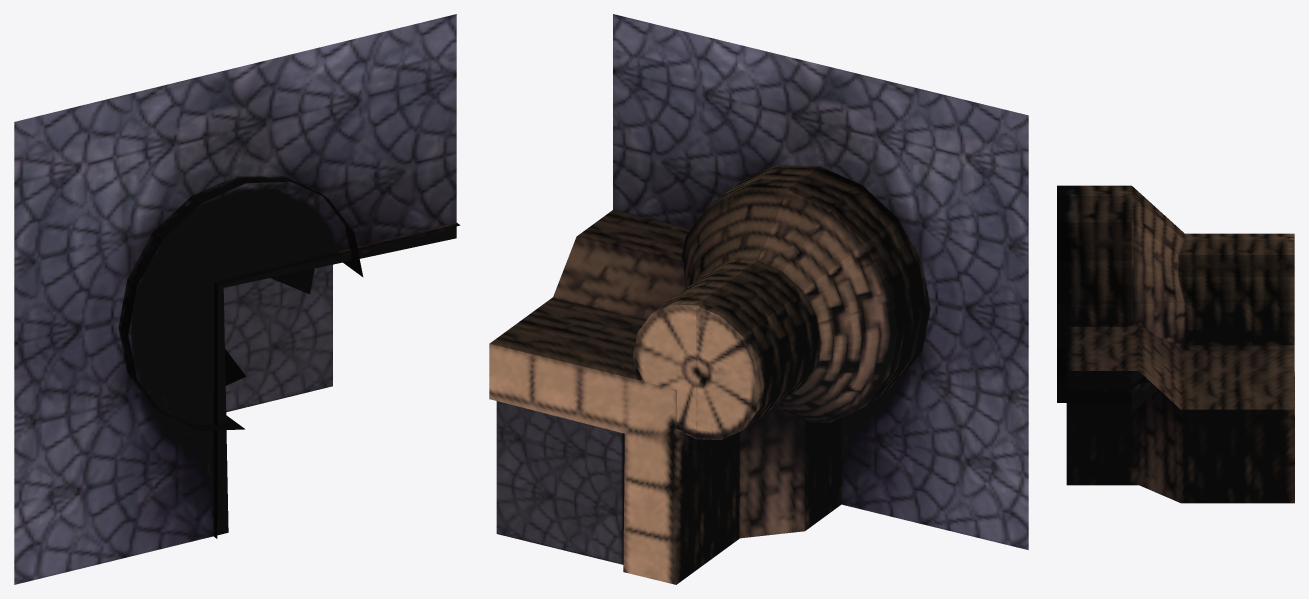
Rendered from ex_ColumnCorner1.obj.
The picture shows the model from 3 angles, left to right: view 1: azimuth 30°, elevation 25°; view 2: azimuth 150°, elevation 25°; view 3: azimuth 270°, elevation 25°; orthographic projection. The views are drawn at different scales.
Parts seen in each view (by area): view 1: ex_Column0.005_Cylinder.010, object 2; view 2: ex_Column0.005_Cylinder.010, object 2; view 3: ex_Column0.005_Cylinder.010.
Boxes of the visible parts, x1=… form: ex_Column0.005_Cylinder.010: x1=14, y1=14, x2=460, y2=584; object 2: x1=223, y1=264, x2=332, y2=412; ex_Column0.005_Cylinder.010: x1=489, y1=14, x2=1028, y2=584; object 2: x1=496, y1=401, x2=624, y2=564; ex_Column0.005_Cylinder.010: x1=1057, y1=185, x2=1294, y2=503.
Bounding box in the file's own units: 256 × 256 × 142.
